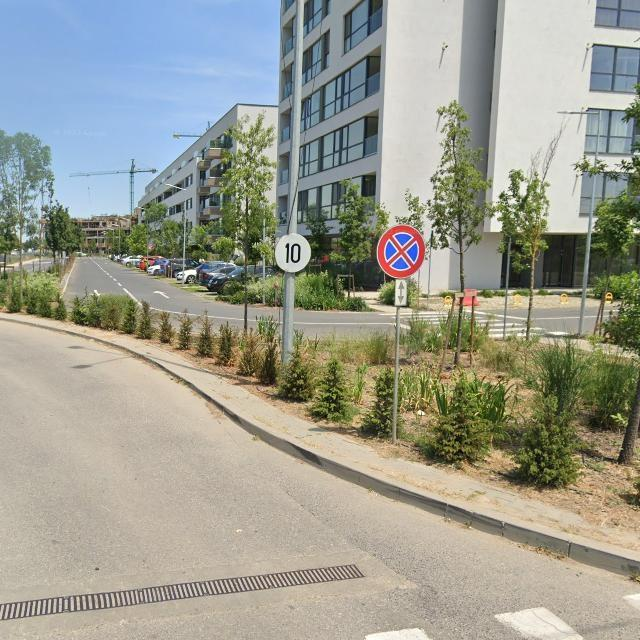forb_speed_over_10: (275, 234, 311, 273)
forb_waiting: (375, 225, 425, 279)
